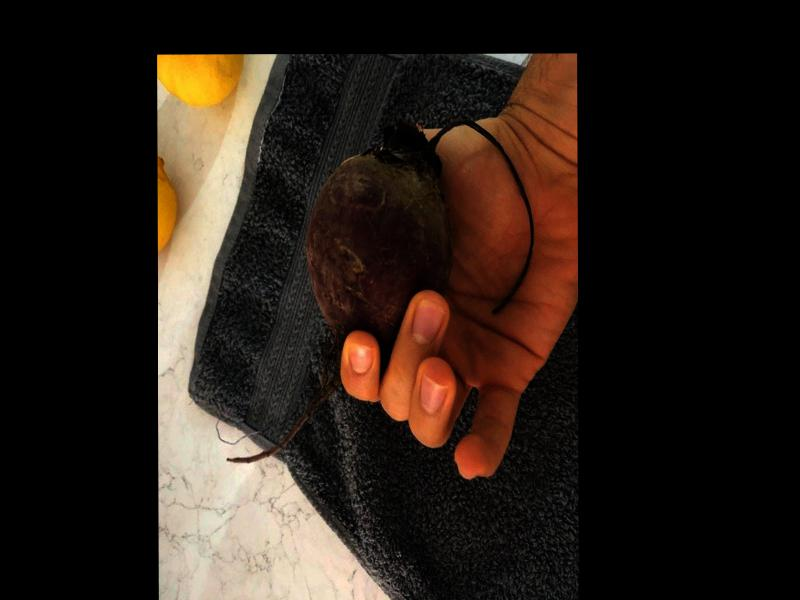Beet: (226, 123, 534, 462)
